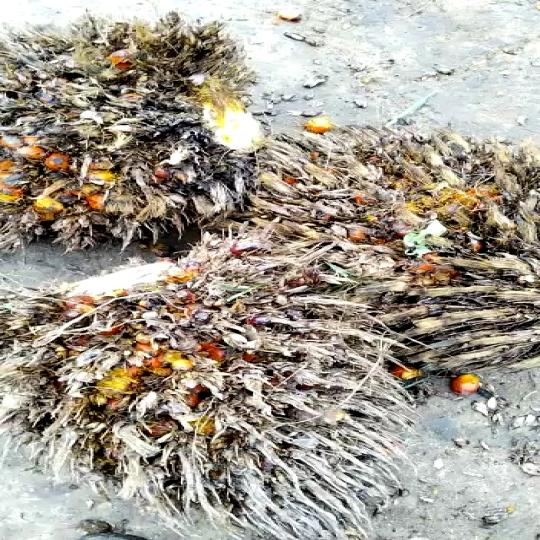terlalu masak: (0, 255, 433, 531), (0, 29, 299, 256)
